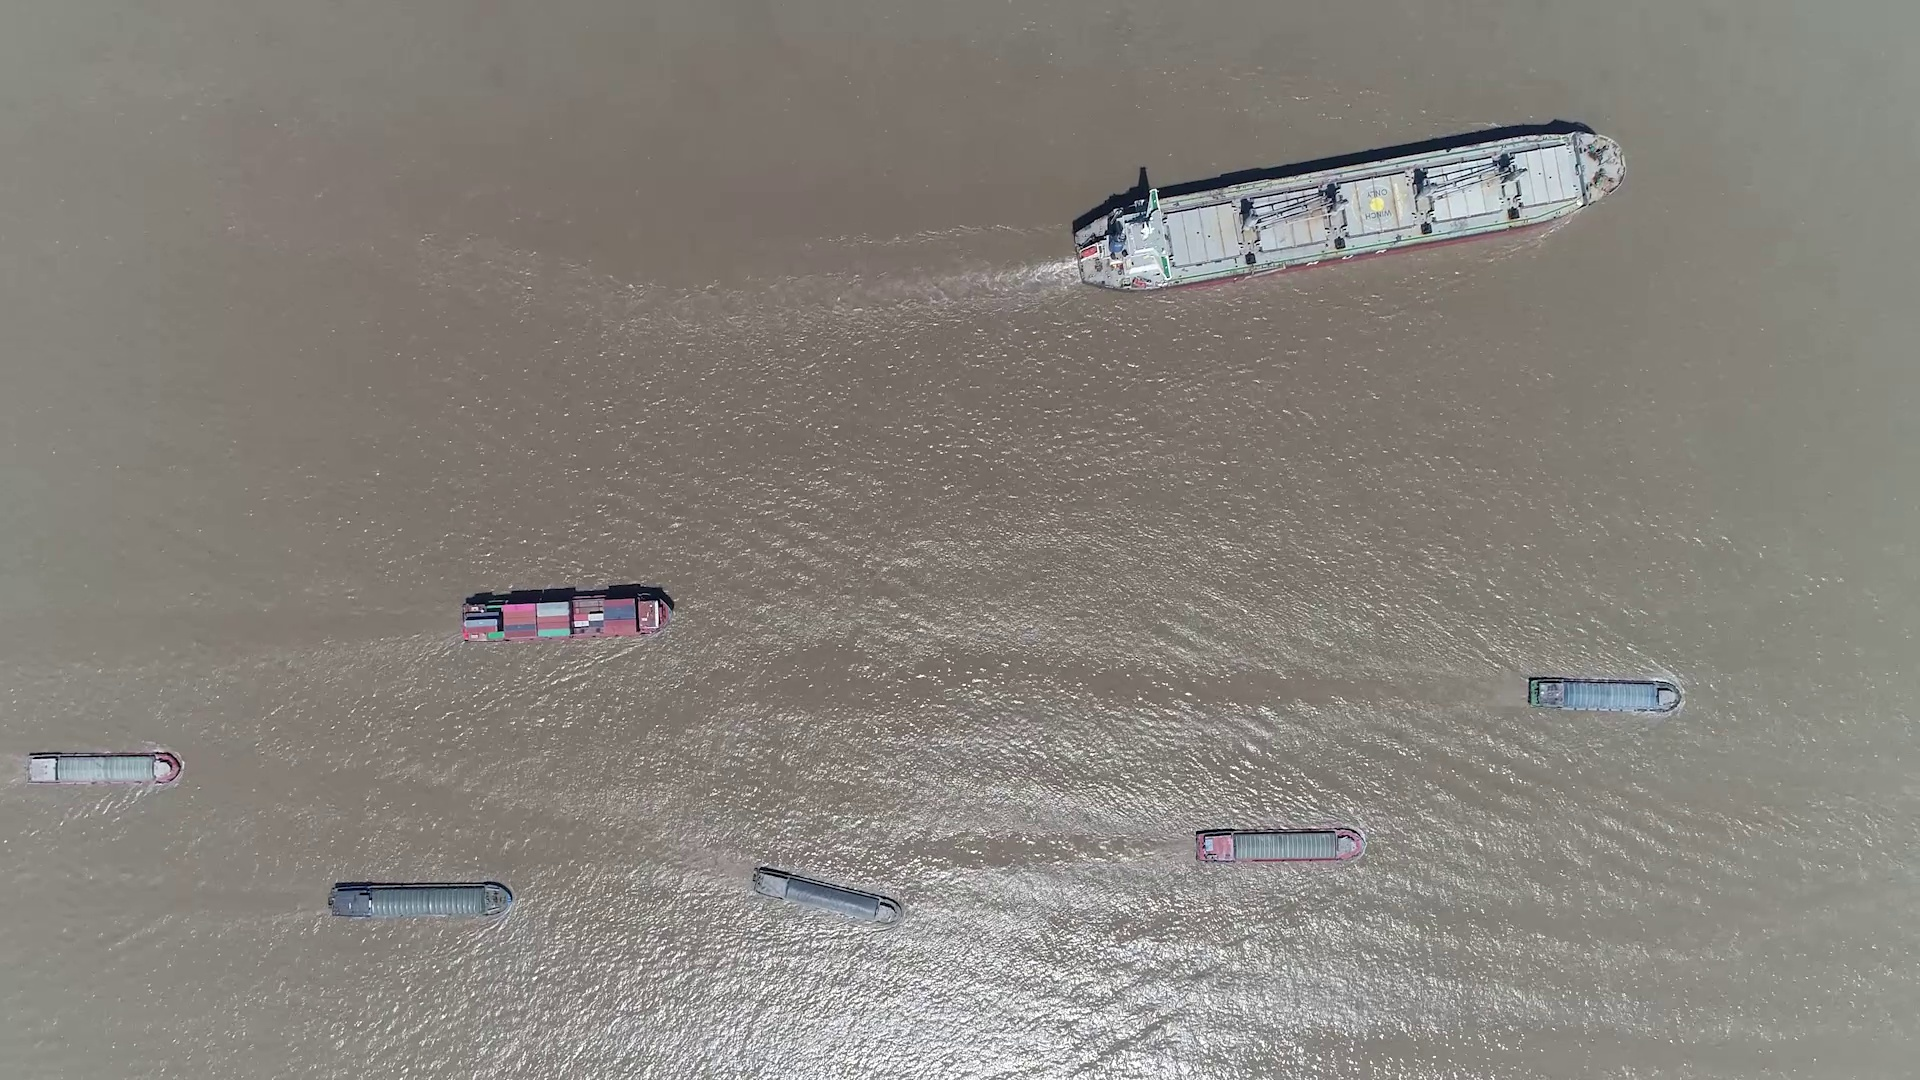ship: (1073, 131, 1626, 287), (460, 589, 673, 644), (750, 868, 901, 924), (330, 880, 512, 916), (1197, 827, 1364, 862), (1528, 676, 1683, 713), (26, 752, 179, 785)
